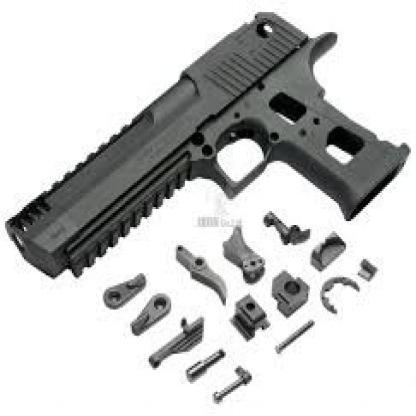Pistol: (2, 10, 411, 280)
